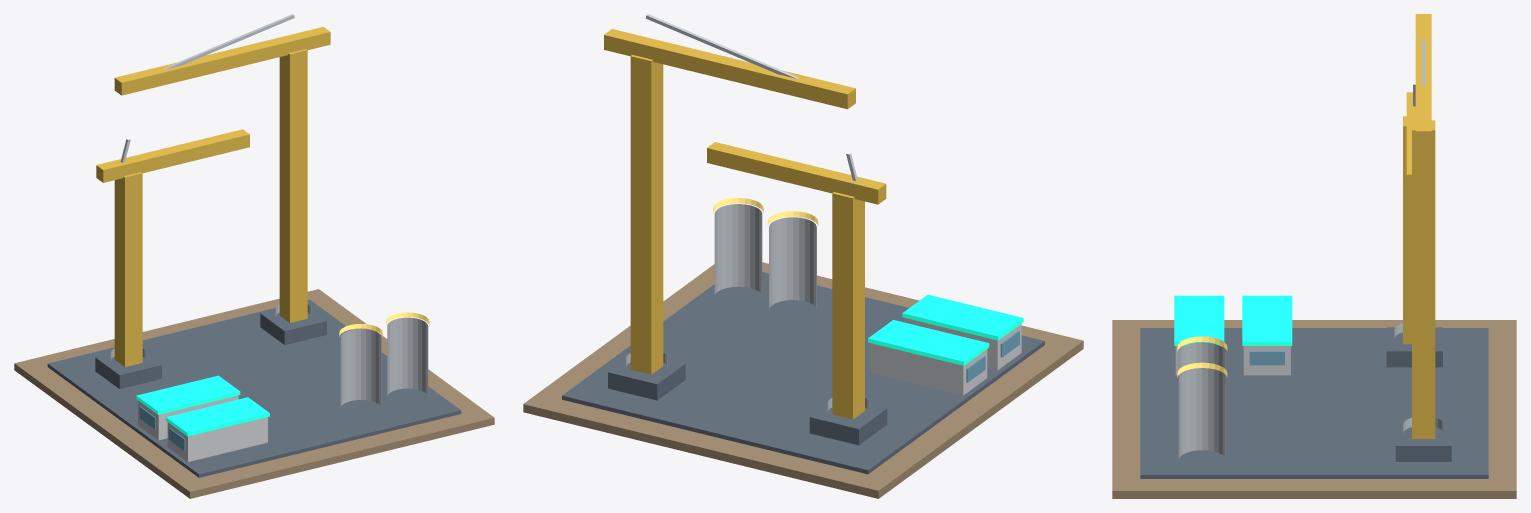
File: construction_crane_site.master.glb
The picture shows the model from 3 angles, left to right: view 1: azimuth 30°, elevation 25°; view 2: azimuth 150°, elevation 25°; view 3: azimuth 270°, elevation 25°; orthographic projection. The views are drawn at different scales.
Visible parts, largest first — view 1: construction_crane_site_master; view 2: construction_crane_site_master; view 3: construction_crane_site_master.
Part boxes in pixels (x1,y1,x2,y2): construction_crane_site_master: (14,14,494,498); construction_crane_site_master: (523,14,1083,498); construction_crane_site_master: (1112,14,1516,498).
Bounding box in the file's own units: 2.74 × 2.81 × 2.74.
